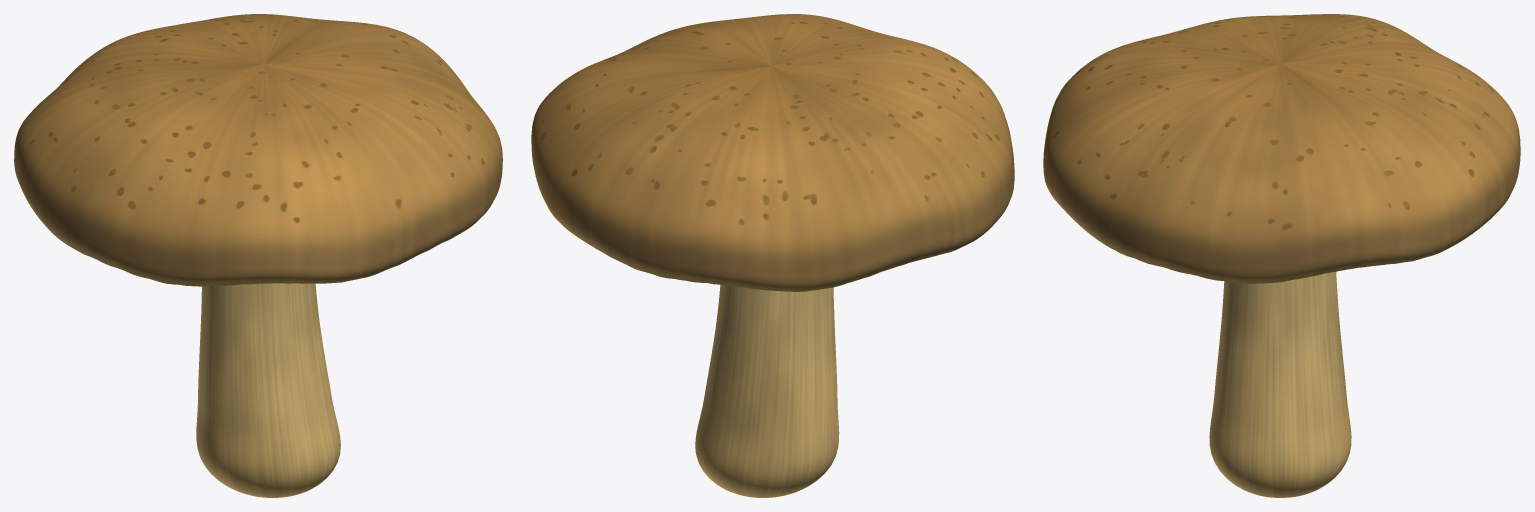
File: suillus-variegatus-drawn.glb
3 renders of one model, left to right at view 1: azimuth 30°, elevation 25°; view 2: azimuth 150°, elevation 25°; view 3: azimuth 270°, elevation 25°, orthographic.
Size of the model in its own units: 0.8245 by 0.7903 by 0.8222.
1 material, 1 textured.
